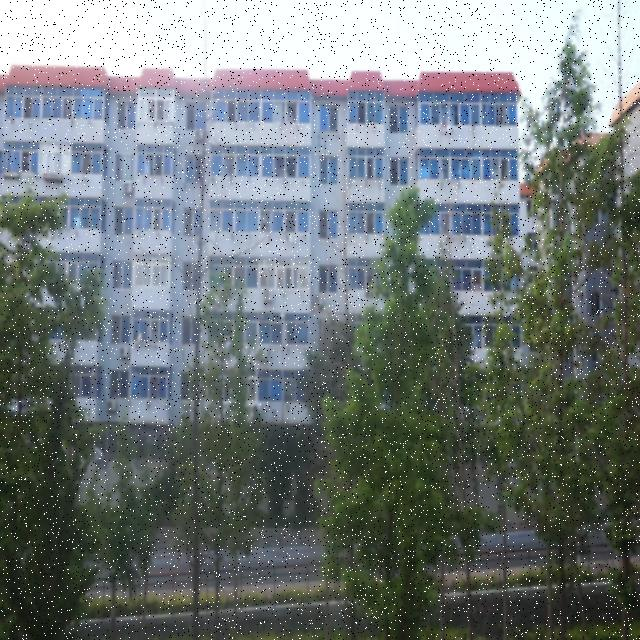UAV: (315, 304, 327, 312)
